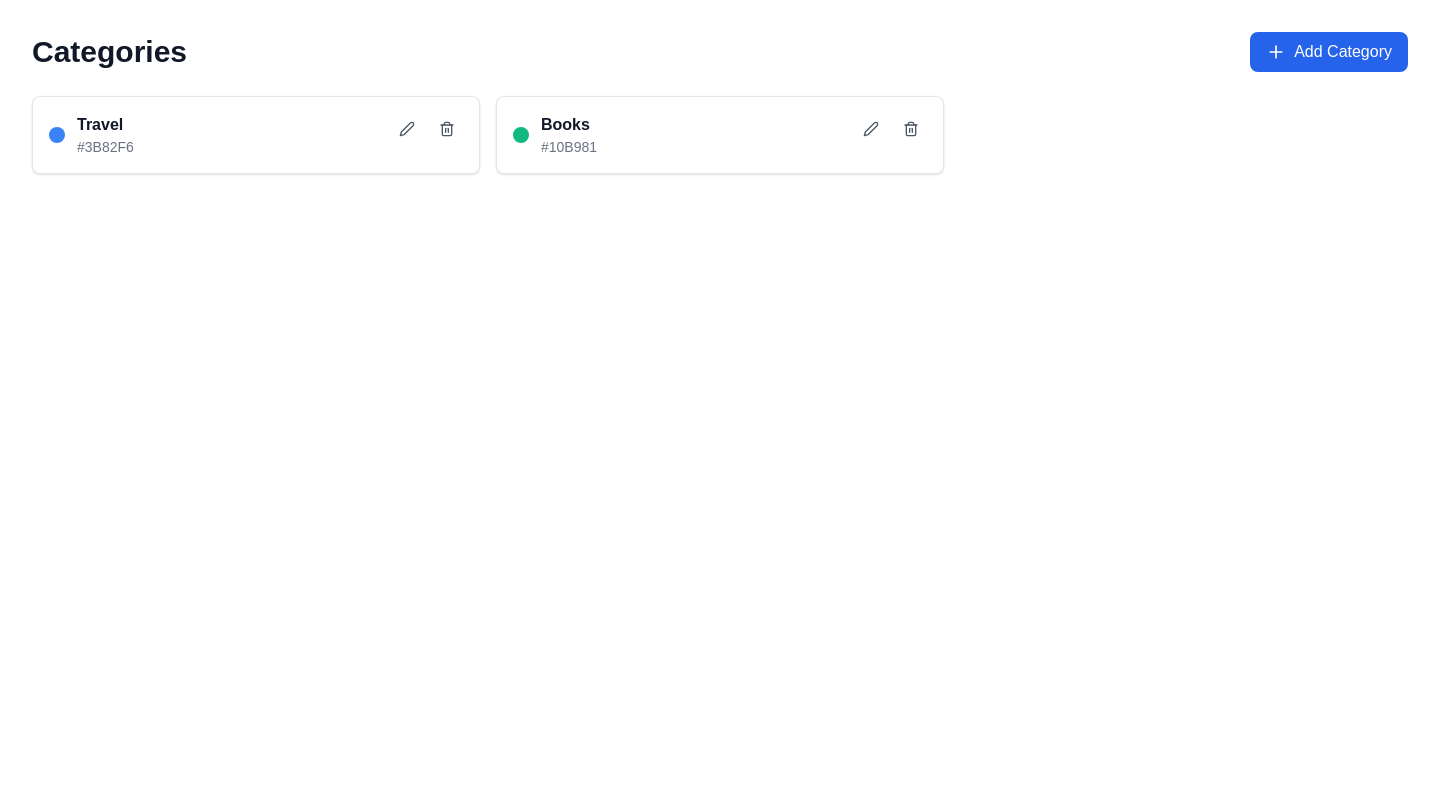
Test: CategoryManager › opens create modal when Add Category is clicked
Click the button "Add Category". click: x=1329, y=52
box: [1250, 32, 1408, 72]
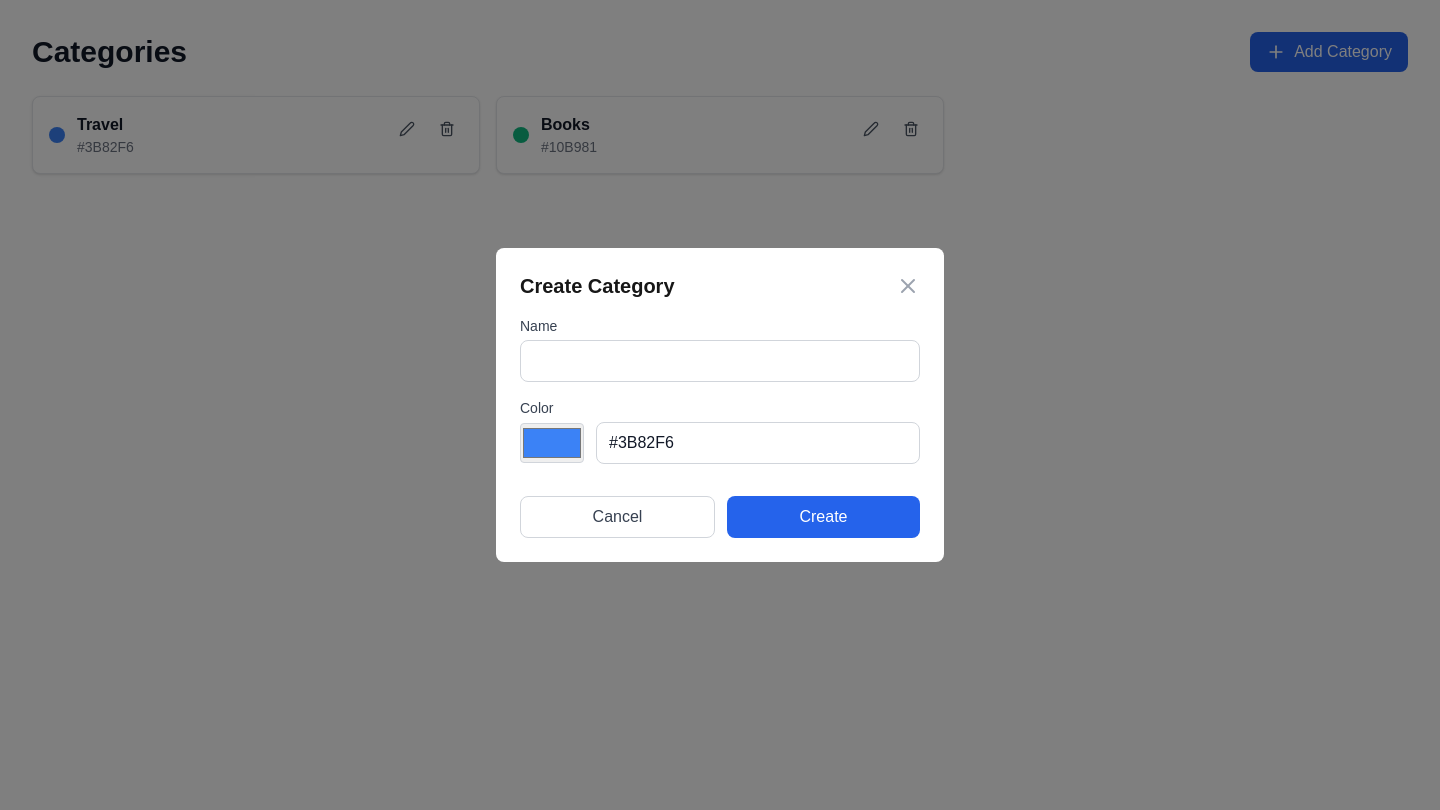
Now the heading "Create Category" is shown, box [520, 272, 674, 300]
